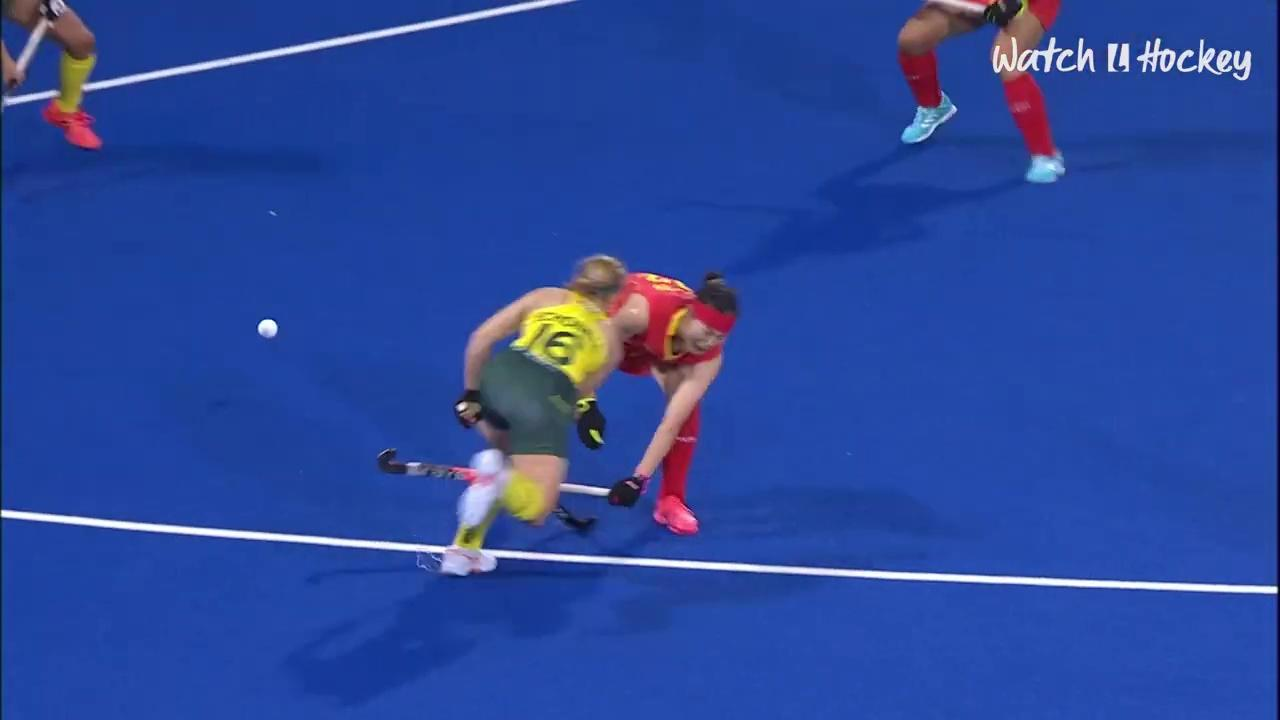ball: (247, 311, 286, 348)
